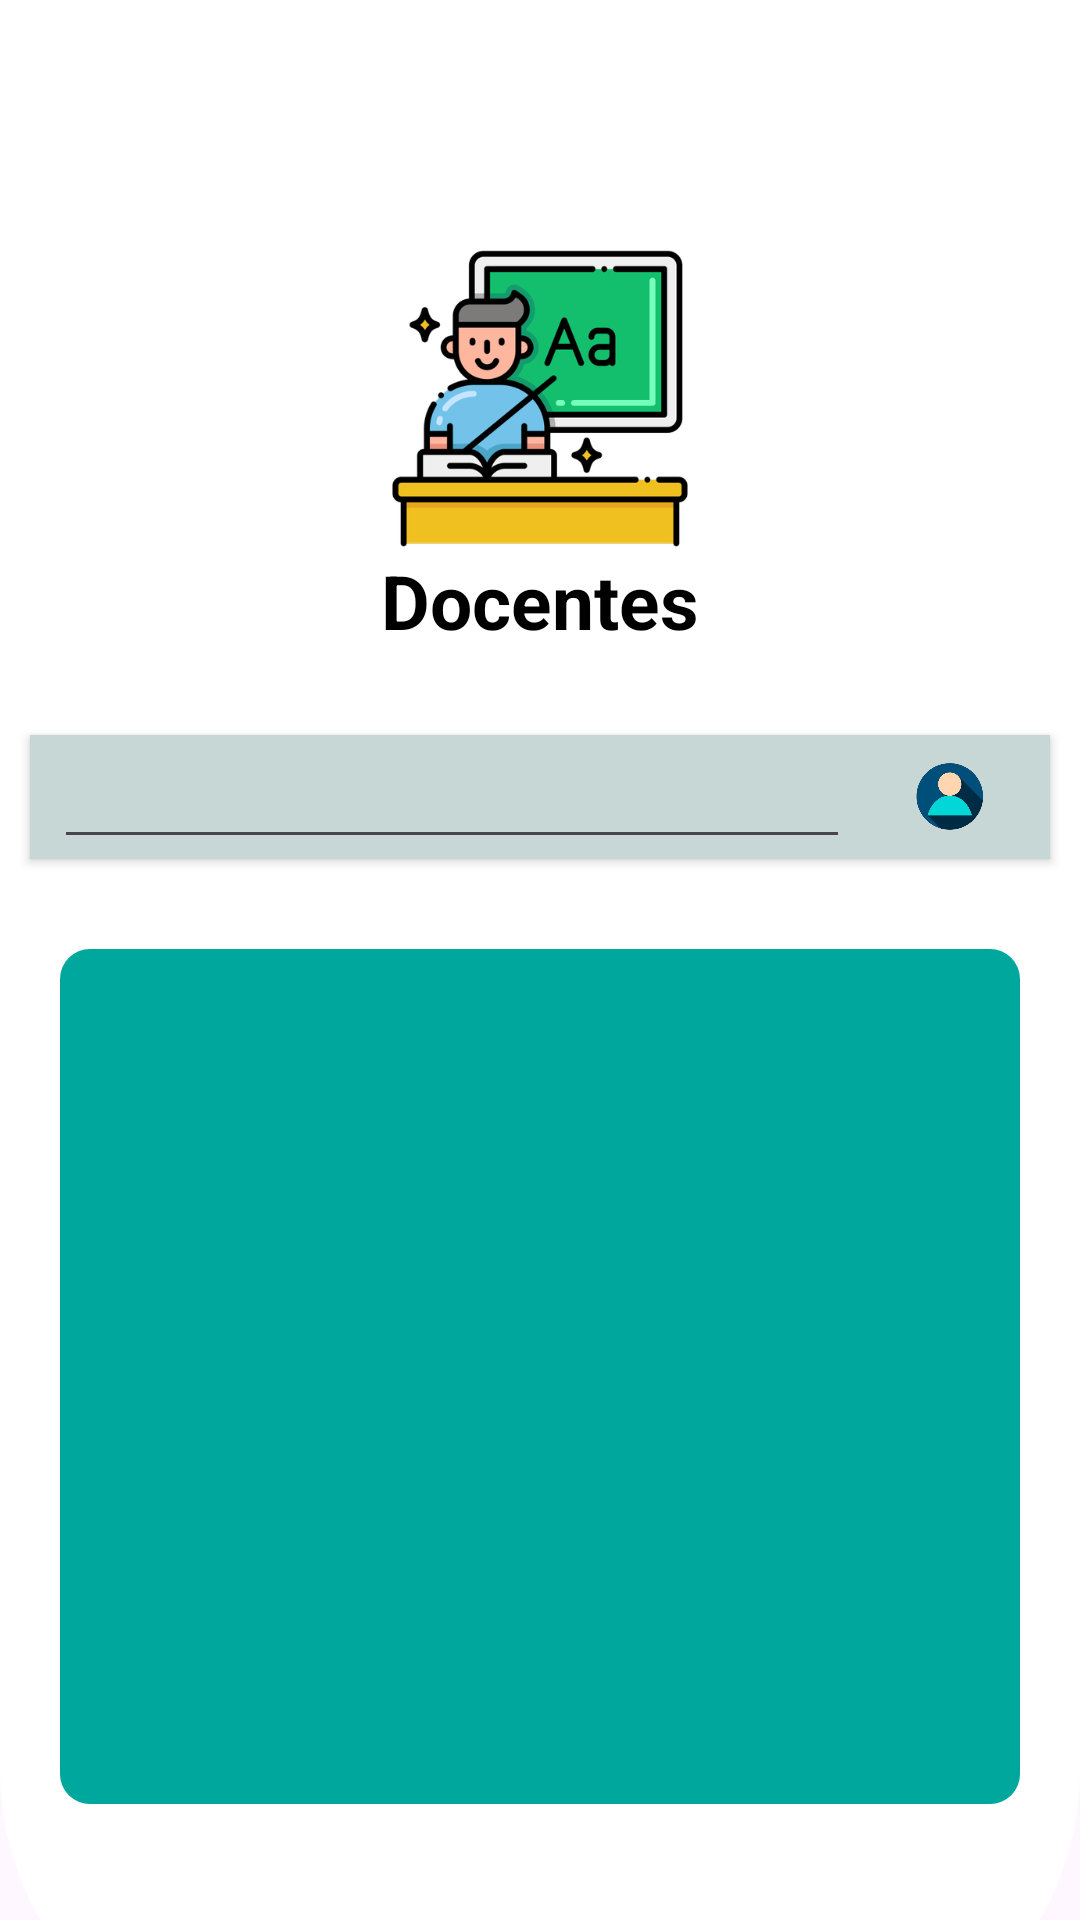

Named icons in this screenshot (1080*1920) and their centers, point (x, y):
usuario: point (949, 796)
